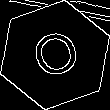O_S: (24, 23, 86, 87)
